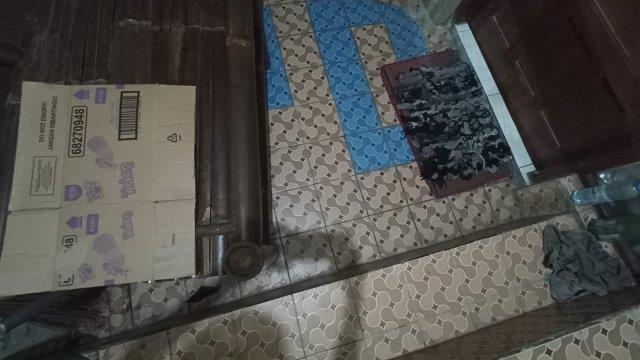kardus: (1, 81, 195, 294)
